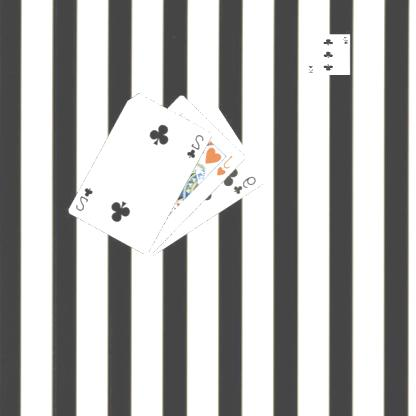2C: (186, 132, 207, 160), (75, 185, 96, 212)
9C: (232, 173, 260, 196)
JH: (216, 152, 236, 177)
